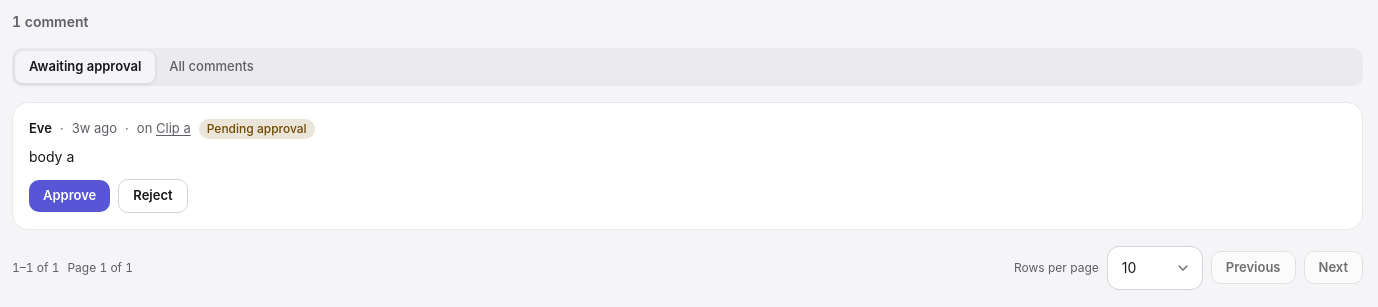
it: CommentsQueueView › switches to every comment, where a published one offers no Approve
Expected: the text "body a" is shown, left=29, top=148, right=74, bottom=165
Step 1. Click the button "All comments" → point(212, 67), box left=155, top=51, right=268, bottom=83
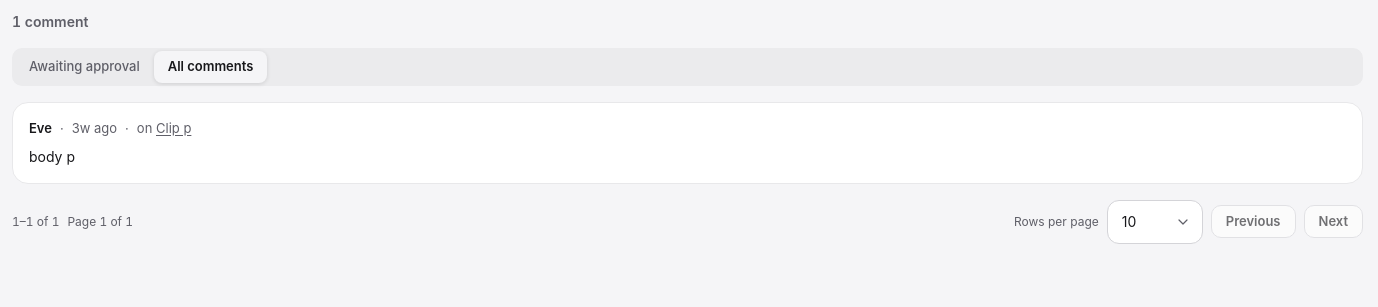
Expected: the text "body p" is shown, left=29, top=148, right=75, bottom=164
Expected: the button "Approve" is gone
Expected: the text "Pending approval" is gone
